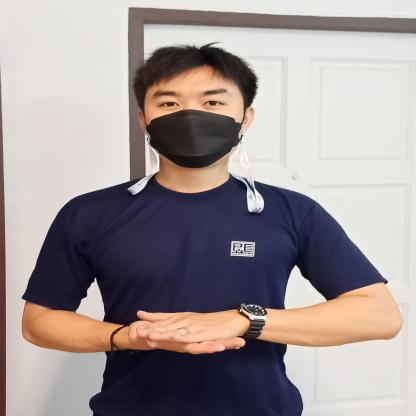Love: (96, 281, 335, 391)
